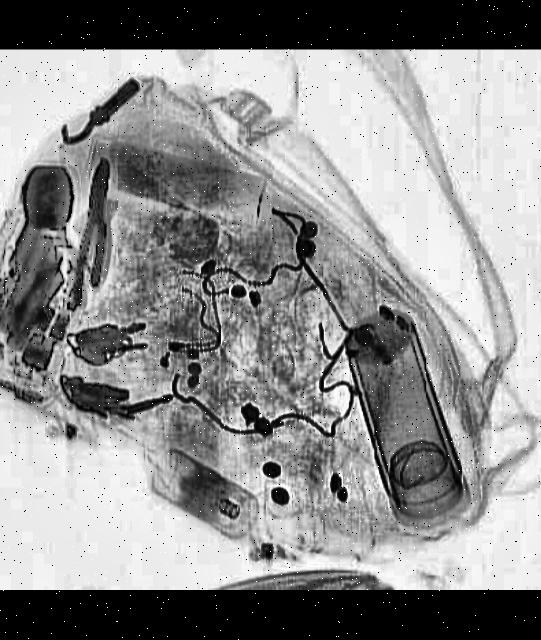Pliers: (69, 154, 120, 306)
